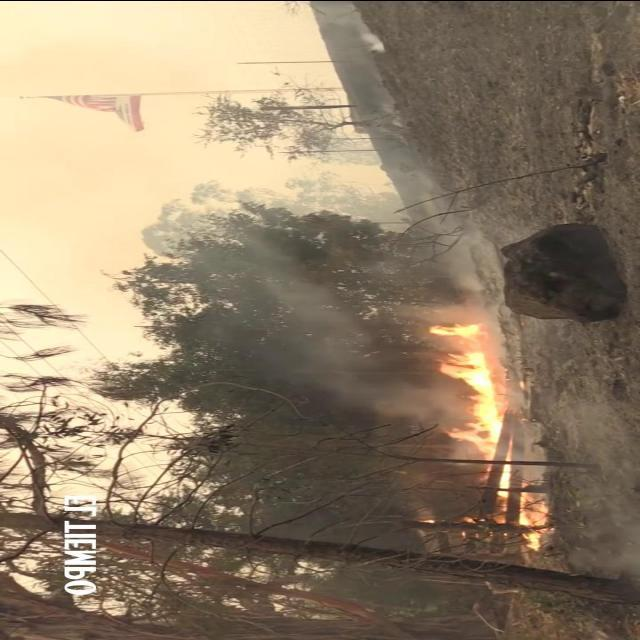Fire: (428, 322, 498, 458), (518, 494, 552, 549)
